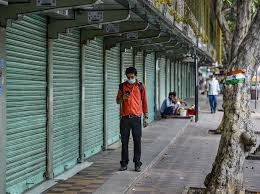mask: (124, 64, 137, 85)
